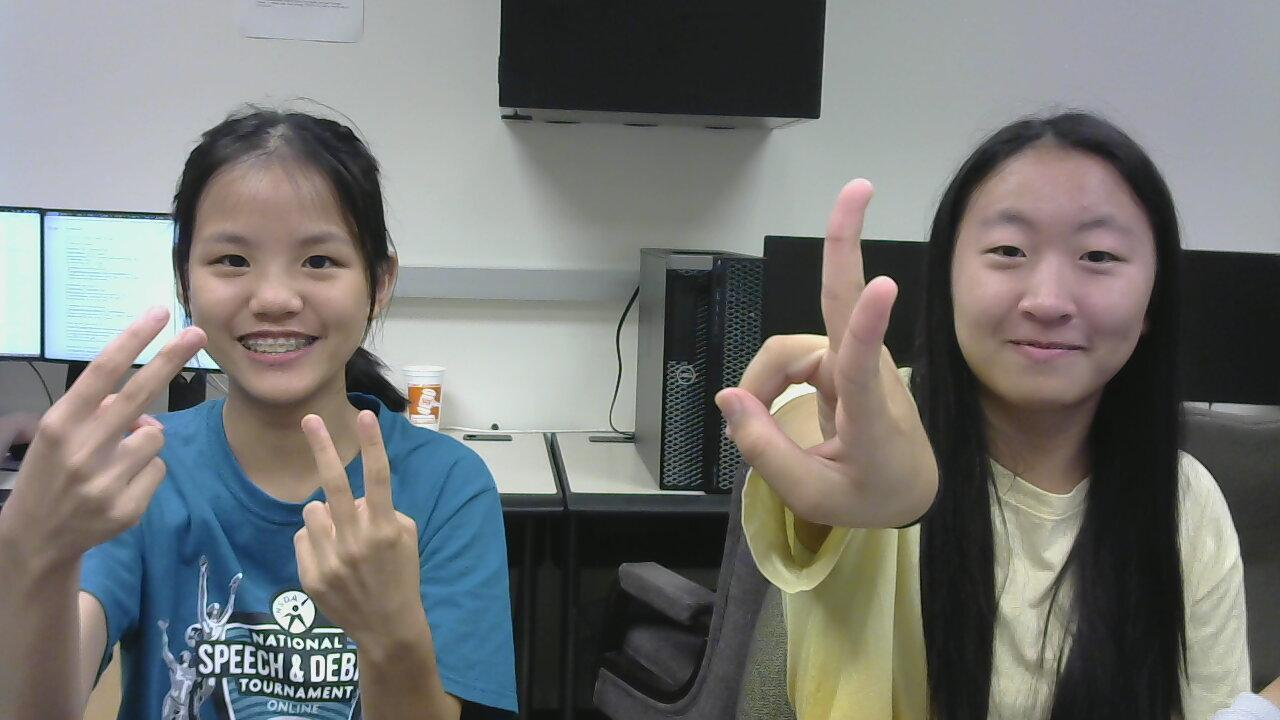peace: (724, 158, 944, 519), (273, 379, 459, 649), (36, 290, 213, 545)
